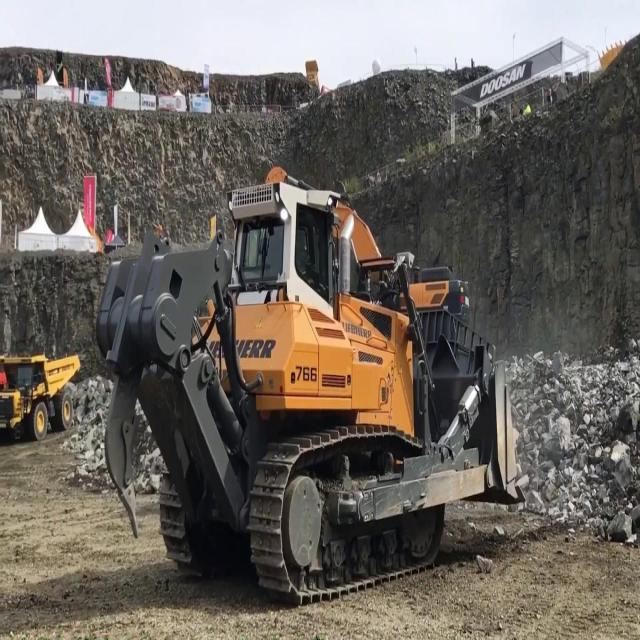Bulldozer: (95, 163, 523, 596)
